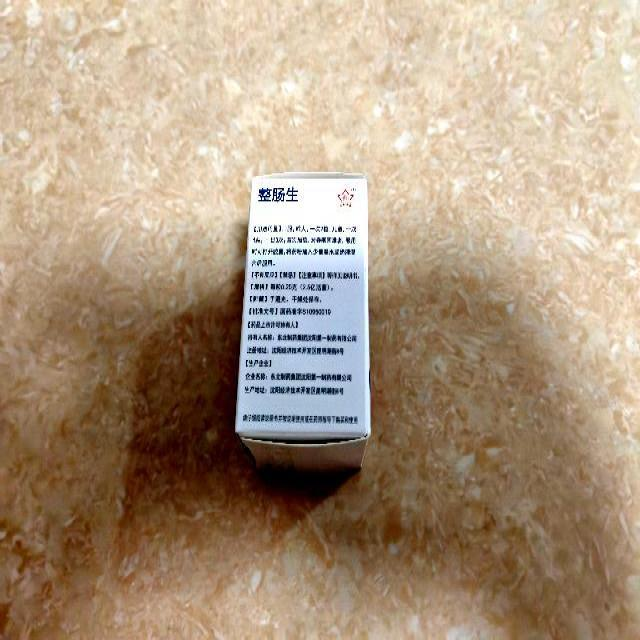box: (234, 172, 374, 476)
